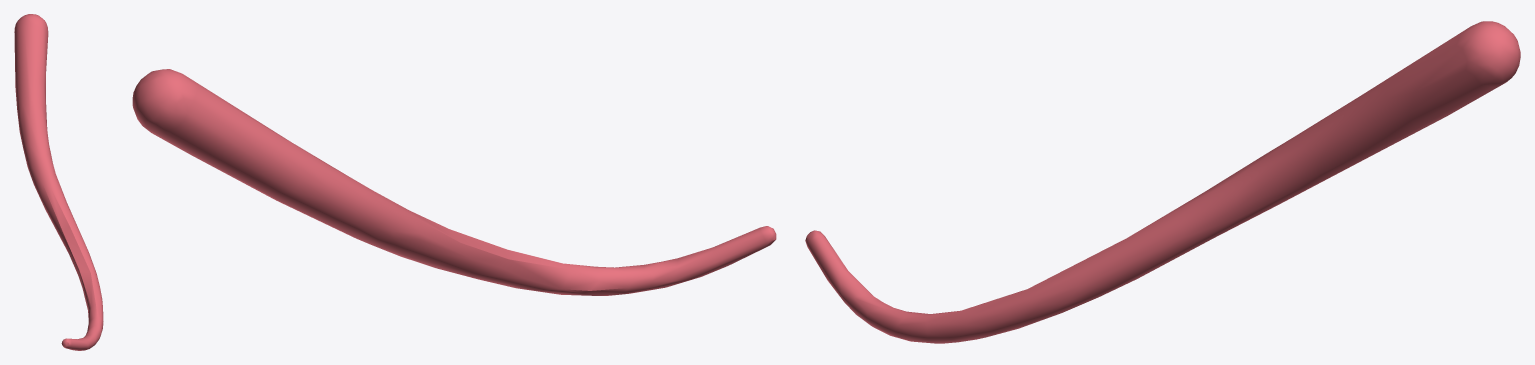
The model's file is fma68193_fj6060.glb.
The picture shows the model from 3 angles, left to right: view 1: azimuth 30°, elevation 25°; view 2: azimuth 150°, elevation 25°; view 3: azimuth 270°, elevation 25°; orthographic projection. The views are drawn at different scales.
Visible parts, largest first — view 1: FMA68193_FJ6060; view 2: FMA68193_FJ6060; view 3: FMA68193_FJ6060.
Part boxes in pixels (left/top/right/bottom): FMA68193_FJ6060: left=14, top=14, right=103, bottom=350; FMA68193_FJ6060: left=132, top=69, right=776, bottom=295; FMA68193_FJ6060: left=805, top=21, right=1520, bottom=343.
Bounding box in the file's own units: 0.0406 × 0.0506 × 0.083.
